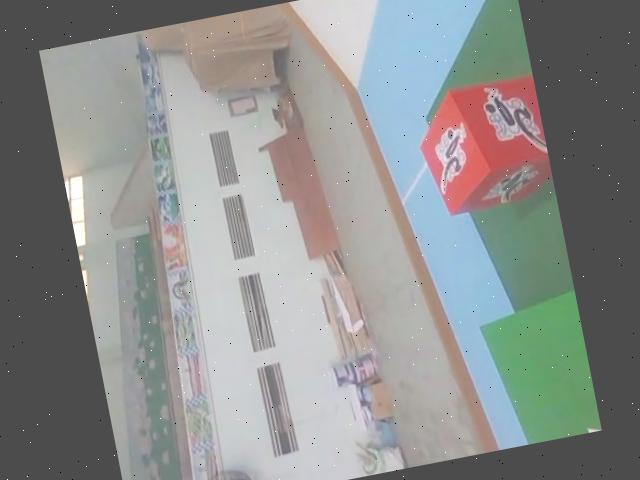R1: (403, 72, 556, 222)
